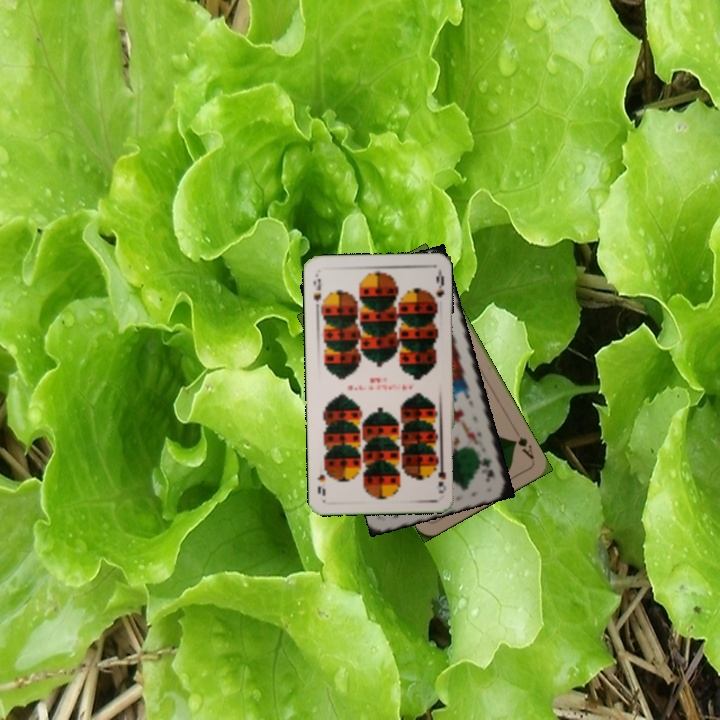GA: (509, 432, 537, 462)
GK: (479, 453, 496, 485)
S9: (309, 270, 324, 311), (431, 456, 448, 489)
